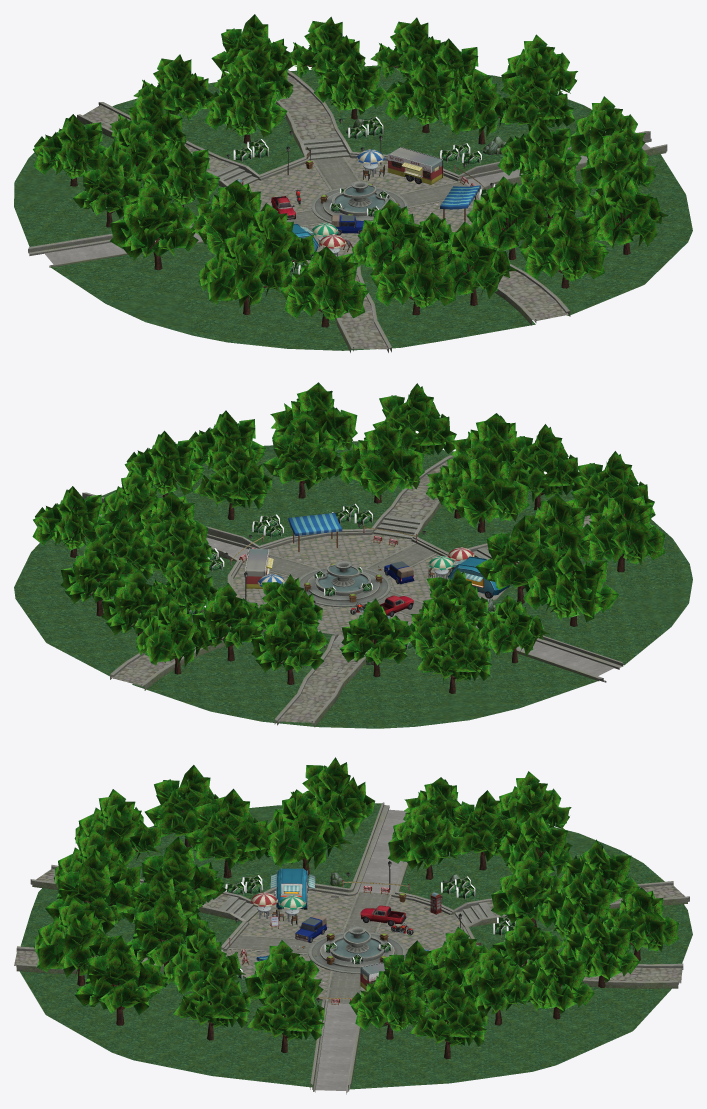
File: SiWangPenQuan_01.FBX
The picture shows the model from 3 angles, top to bottom: view 1: azimuth 30°, elevation 25°; view 2: azimuth 150°, elevation 25°; view 3: azimuth 270°, elevation 25°; orthographic projection. The views are drawn at different scales.
Parts seen in each view (by area): view 1: SiWangPenQuan_01_shuye_01, SiWangPenQuan_01_changjing_02, SiWangPenQuan_01_changjing_01, SiWangPenQuan_01_changjing_03, SiWangPenQuan_01_changjing_04, SiWangPenQuan_01_hua_01; view 2: SiWangPenQuan_01_shuye_01, SiWangPenQuan_01_changjing_02, SiWangPenQuan_01_changjing_01, SiWangPenQuan_01_changjing_03, SiWangPenQuan_01_changjing_04, SiWangPenQuan_01_hua_01; view 3: SiWangPenQuan_01_shuye_01, SiWangPenQuan_01_changjing_02, SiWangPenQuan_01_changjing_01, SiWangPenQuan_01_changjing_03, SiWangPenQuan_01_changjing_04, SiWangPenQuan_01_hua_01.
Boxes of the visible parts, x1=… form: SiWangPenQuan_01_shuye_01: x1=33, y1=14, x2=668, y2=321; SiWangPenQuan_01_changjing_02: x1=14, y1=60, x2=692, y2=350; SiWangPenQuan_01_changjing_01: x1=28, y1=70, x2=667, y2=352; SiWangPenQuan_01_changjing_03: x1=271, y1=160, x2=408, y2=235; SiWangPenQuan_01_changjing_04: x1=292, y1=147, x2=443, y2=256; SiWangPenQuan_01_hua_01: x1=193, y1=116, x2=496, y2=274; SiWangPenQuan_01_shuye_01: x1=32, y1=382, x2=665, y2=683; SiWangPenQuan_01_changjing_02: x1=14, y1=426, x2=692, y2=728; SiWangPenQuan_01_changjing_01: x1=82, y1=455, x2=623, y2=727; SiWangPenQuan_01_changjing_03: x1=299, y1=561, x2=414, y2=616; SiWangPenQuan_01_changjing_04: x1=245, y1=547, x2=509, y2=598; SiWangPenQuan_01_hua_01: x1=187, y1=503, x2=519, y2=649; SiWangPenQuan_01_shuye_01: x1=34, y1=757, x2=679, y2=1047; SiWangPenQuan_01_changjing_02: x1=19, y1=775, x2=692, y2=1089; SiWangPenQuan_01_changjing_01: x1=14, y1=802, x2=689, y2=1094; SiWangPenQuan_01_changjing_03: x1=295, y1=893, x2=406, y2=973; SiWangPenQuan_01_changjing_04: x1=250, y1=867, x2=428, y2=990; SiWangPenQuan_01_hua_01: x1=225, y1=875, x2=515, y2=979.
Bounding box in the file's own units: 30160 × 4339 × 29937.
Materials: 5 (5 with a texture image).
